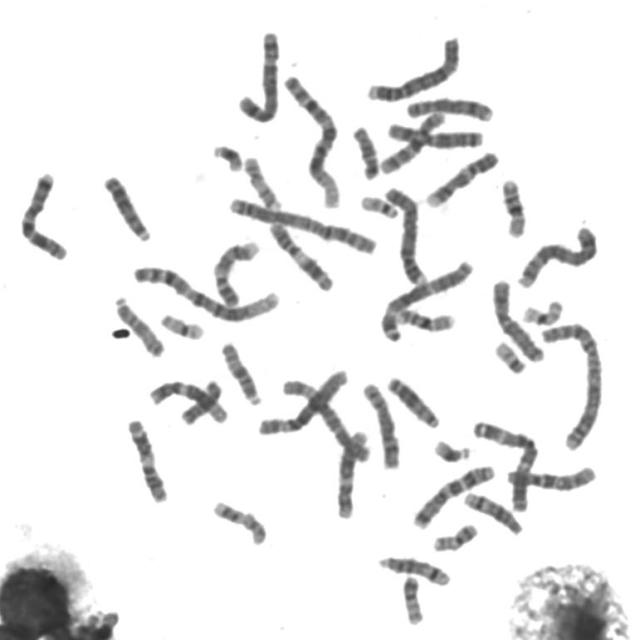A1: (130, 260, 283, 324), (280, 70, 344, 211)
A2: (223, 192, 379, 257), (536, 317, 606, 452)
A3: (376, 255, 477, 344), (469, 416, 542, 513)
B4: (363, 31, 463, 104), (381, 180, 429, 288)
B5: (513, 220, 601, 290), (234, 25, 283, 125)
C10: (376, 106, 448, 176), (502, 460, 600, 494)
C11: (265, 217, 337, 293), (123, 414, 171, 504)
C12: (144, 375, 231, 425), (331, 424, 372, 520)
C6: (279, 374, 373, 464), (254, 364, 351, 438)
C7: (408, 460, 498, 530), (17, 167, 72, 262)
C8: (358, 378, 404, 471), (402, 92, 496, 123)
C9: (422, 147, 502, 209), (210, 235, 263, 308)
D13: (99, 171, 153, 243), (382, 371, 442, 430)
D14: (460, 487, 525, 537), (373, 552, 452, 588)
D15: (110, 292, 168, 359), (217, 337, 265, 408)
E16: (497, 173, 530, 240), (393, 303, 458, 334)
E17: (208, 496, 270, 548), (240, 151, 285, 212)
E18: (177, 376, 225, 427), (348, 121, 381, 181)
F19: (157, 308, 207, 341), (517, 295, 566, 327)
F20: (429, 518, 481, 554), (398, 570, 426, 626)
G21: (208, 139, 246, 174), (430, 436, 473, 464)
G22: (490, 336, 530, 376), (357, 192, 401, 220)
X: (488, 274, 547, 365), (382, 117, 484, 150)
